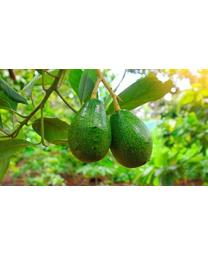avocado: (69, 97, 112, 164), (108, 109, 154, 169)
